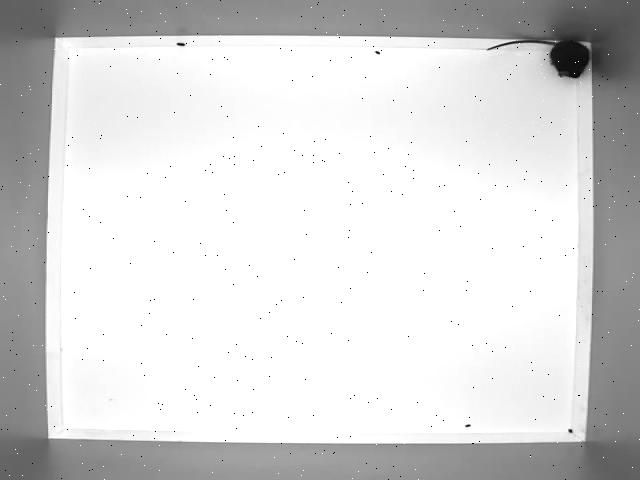Tikus: (476, 32, 594, 84)
